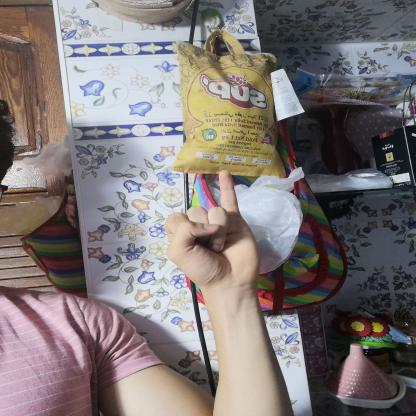MEEM: (147, 162, 280, 300)
